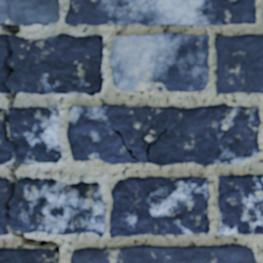brick: (67, 104, 260, 165), (110, 177, 209, 236), (111, 33, 208, 91), (66, 0, 255, 24), (71, 244, 254, 262), (215, 35, 262, 92), (218, 174, 262, 234), (0, 248, 57, 262)
broken_brick: (7, 32, 104, 96), (11, 176, 107, 237), (11, 104, 62, 164), (0, 0, 60, 26), (0, 107, 10, 165), (0, 177, 8, 236), (0, 33, 8, 79)
crack: (0, 2, 60, 260), (111, 127, 139, 161)
